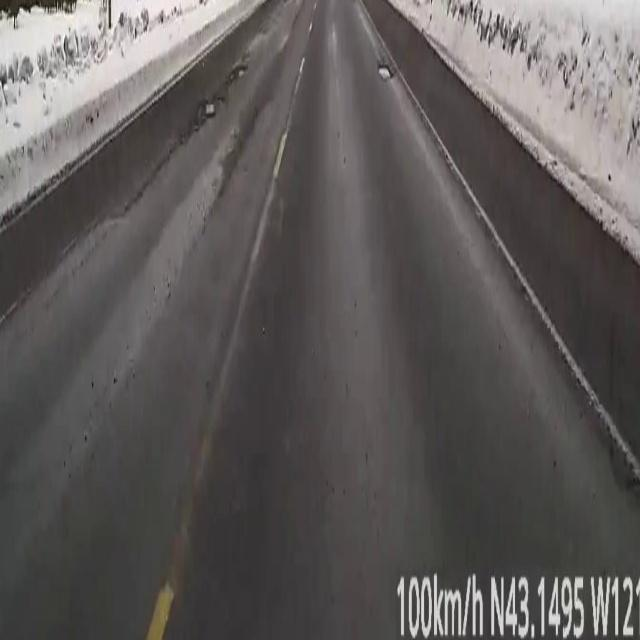pothole: (194, 96, 217, 131), (228, 61, 248, 82), (378, 65, 393, 81)
